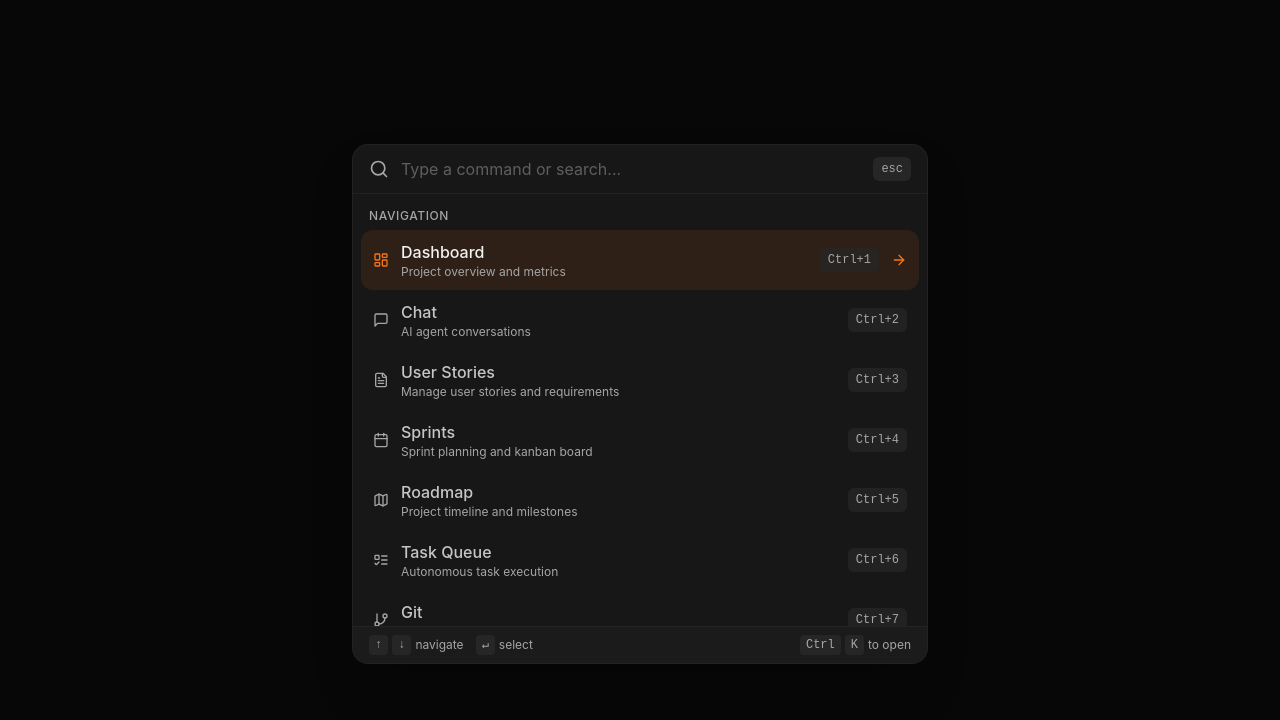
it: CommandPalette › Search filtering › should reset selected index when query changes
// Navigate down a few items
Press Arrowdown
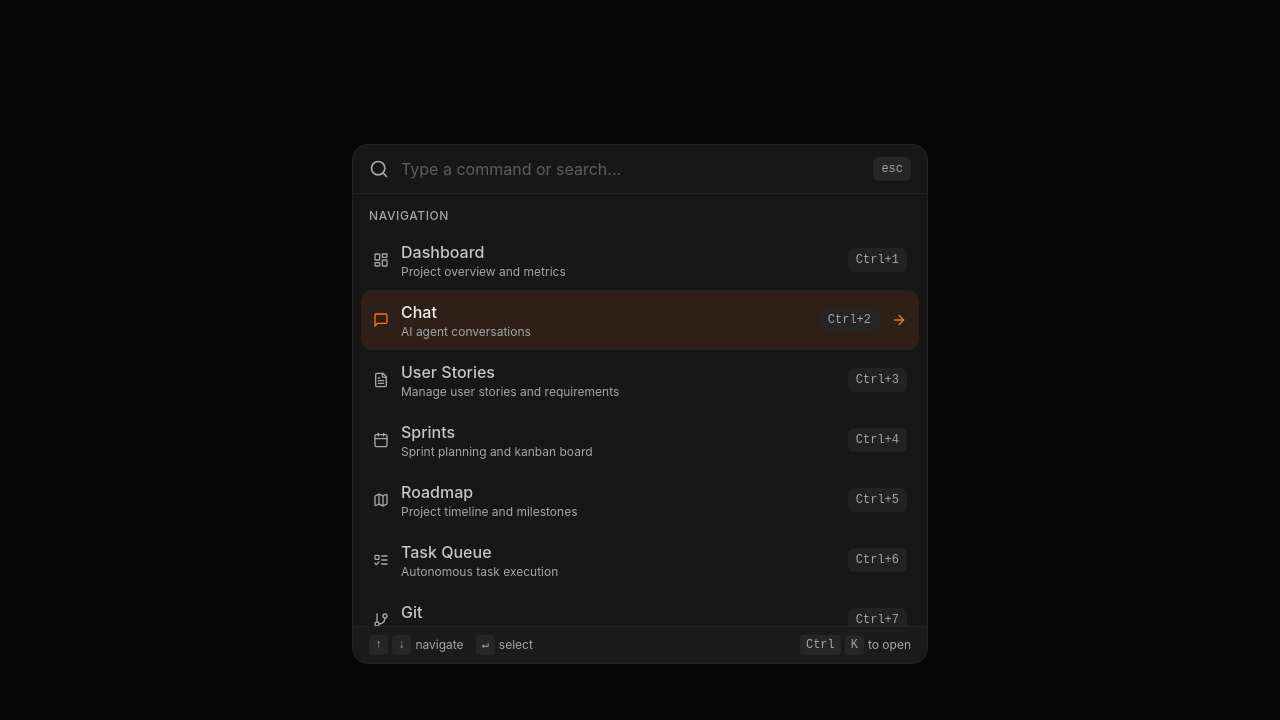
Press Arrowdown
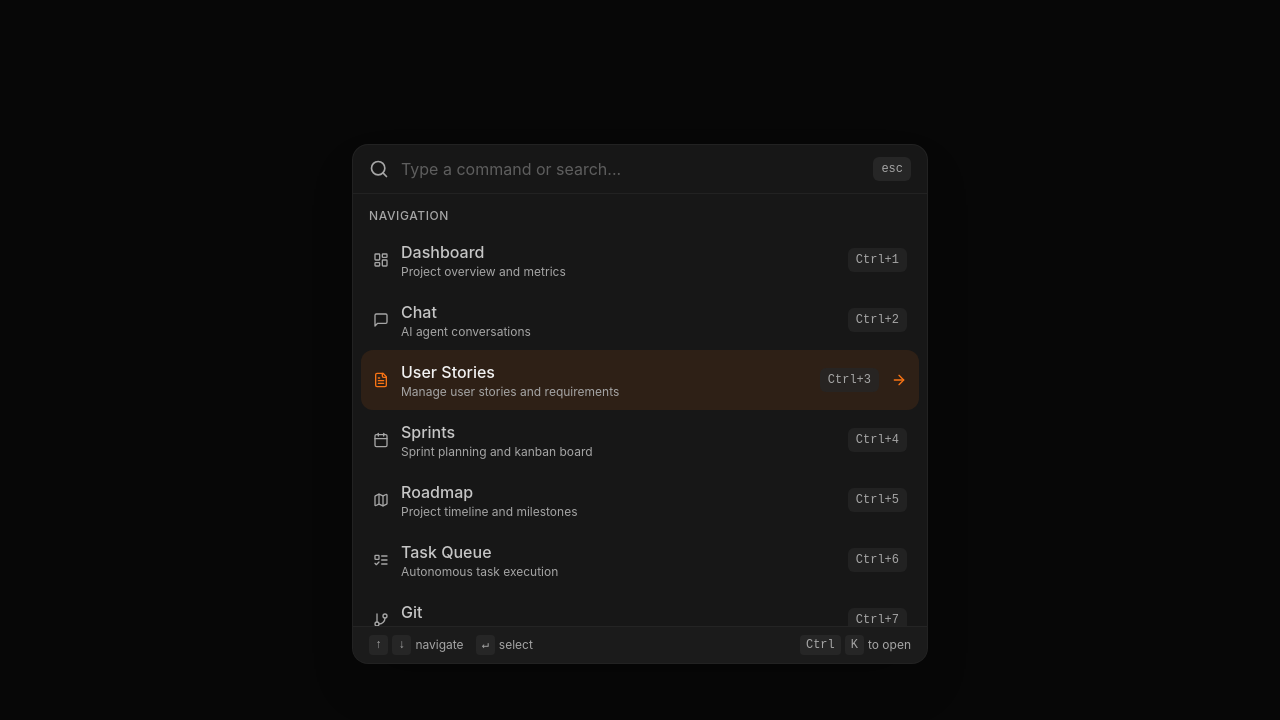
// Type a query
Type "test" into the field with placeholder "Type a command or search..." at point(631, 169), box x1=401 y1=157 x2=861 y2=181
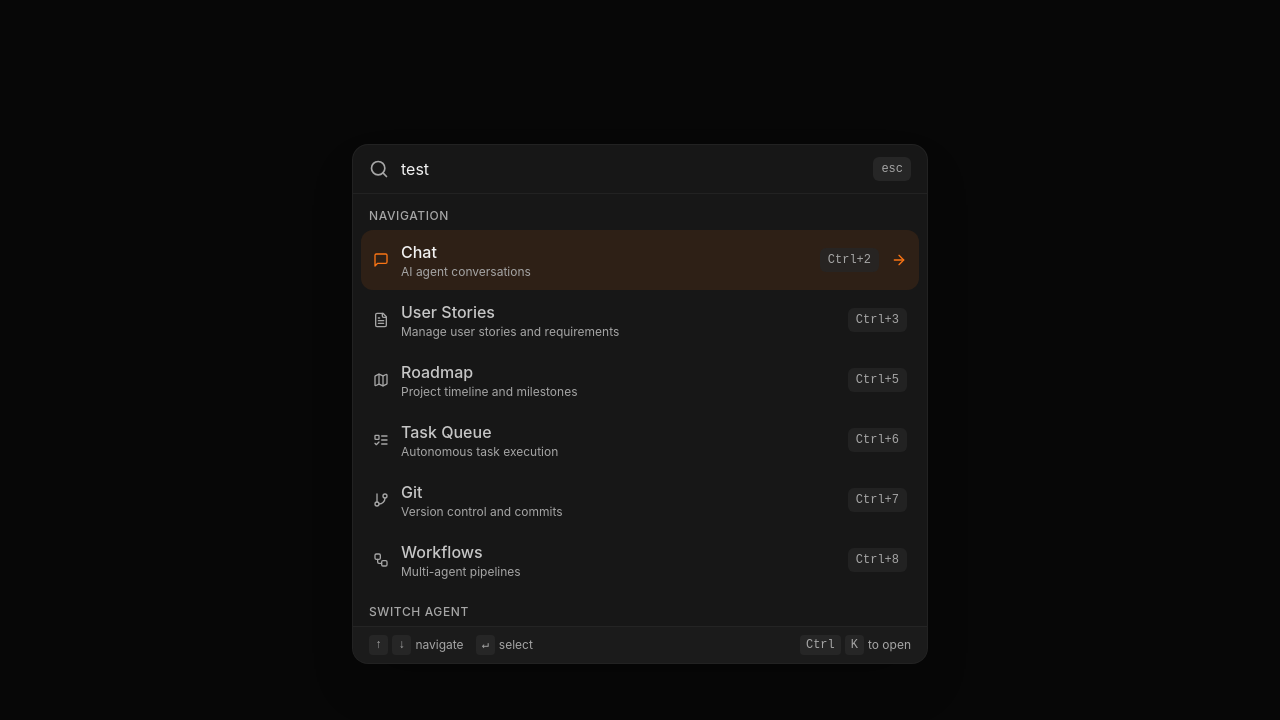
Expected: the icon with class "lucide-arrow-right" is shown, x1=891 y1=252 x2=907 y2=268
